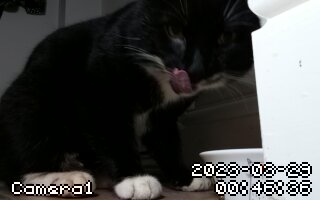bad: (9, 7, 248, 196)
